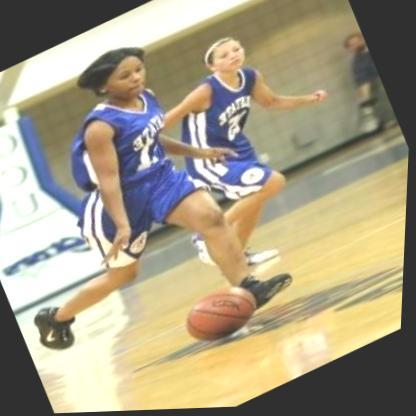basketball: (173, 272, 271, 357)
